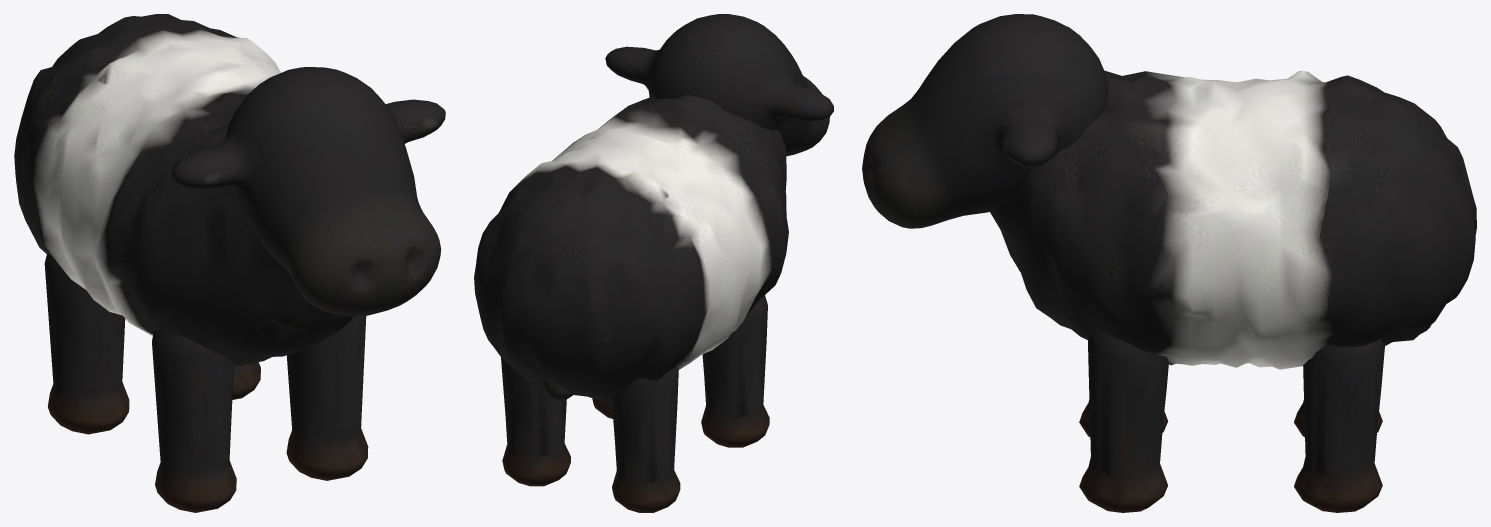
File: animal_belted_galloway.glb
The picture shows the model from 3 angles, left to right: view 1: azimuth 30°, elevation 25°; view 2: azimuth 150°, elevation 25°; view 3: azimuth 270°, elevation 25°; orthographic projection. The views are drawn at different scales.
Visible parts, largest first — view 1: animal_belted_galloway, head, leg0, leg2, leg1, leg3; view 2: animal_belted_galloway, head, leg2, leg0, leg3; view 3: animal_belted_galloway, head, leg1, leg3.
Part boxes in pixels (bbox=[...]): animal_belted_galloway: bbox=[14, 14, 353, 365]; head: bbox=[171, 67, 445, 316]; leg0: bbox=[152, 330, 236, 512]; leg2: bbox=[44, 254, 129, 434]; leg1: bbox=[286, 315, 368, 480]; leg3: bbox=[232, 362, 260, 399]; animal_belted_galloway: bbox=[474, 94, 788, 400]; head: bbox=[605, 14, 833, 156]; leg2: bbox=[611, 367, 680, 512]; leg0: bbox=[701, 295, 769, 447]; leg3: bbox=[501, 357, 570, 486]; animal_belted_galloway: bbox=[990, 70, 1476, 369]; head: bbox=[862, 14, 1107, 228]; leg1: bbox=[1079, 331, 1168, 512]; leg3: bbox=[1294, 339, 1385, 512].
Size of the model in its own units: 0.3482 by 0.5611 by 0.6876.
Materials: 1 (1 with a texture image).
